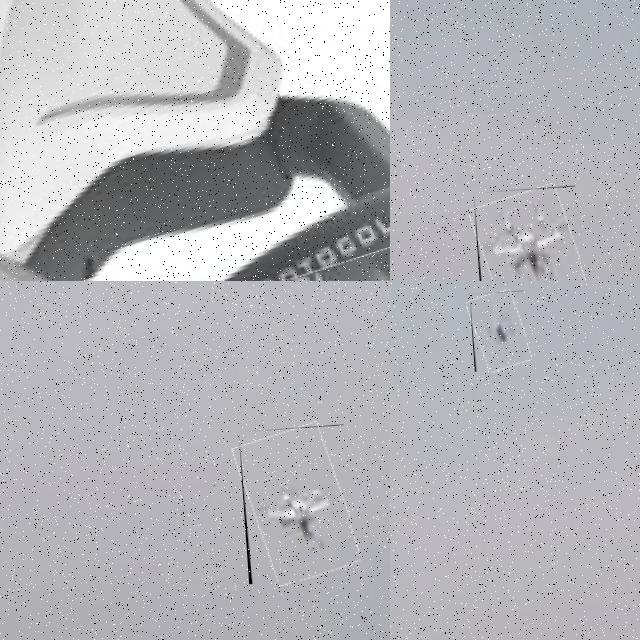drone: (0, 0, 390, 281), (238, 424, 353, 584), (473, 185, 583, 281), (469, 290, 528, 372)
